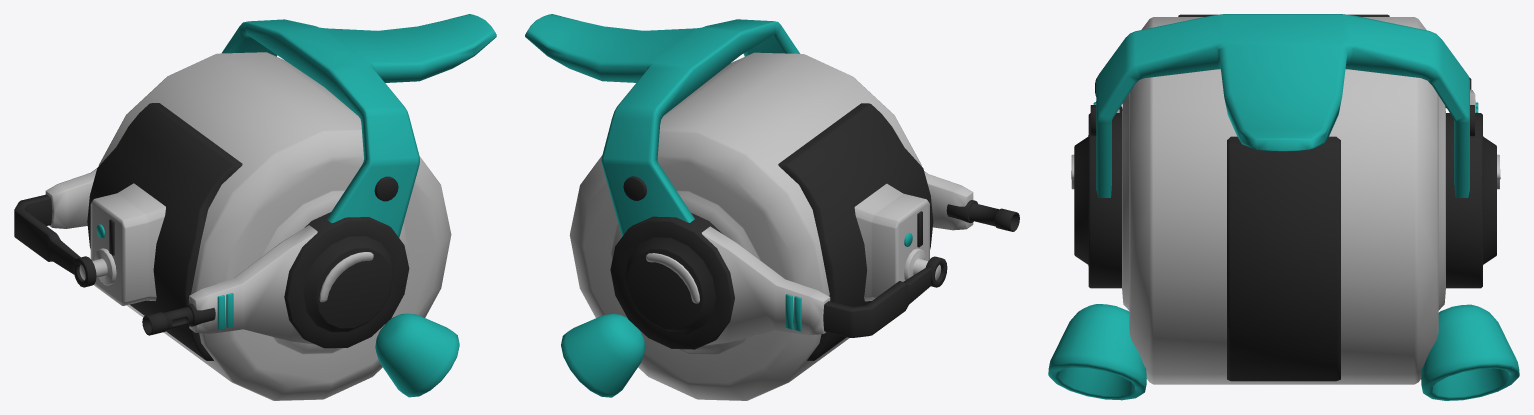
3 views of the same model, side by side, from view 1: azimuth 30°, elevation 25°; view 2: azimuth 150°, elevation 25°; view 3: azimuth 270°, elevation 25° (orthographic). The views are drawn at different scales.
Parts seen in each view (by area): view 1: Drone_earner.004; view 2: Drone_earner.004; view 3: Drone_earner.004.
Part boxes in pixels (left/top/right/bottom): Drone_earner.004: left=14, top=14, right=496, bottom=400; Drone_earner.004: left=525, top=14, right=1019, bottom=400; Drone_earner.004: left=1048, top=14, right=1519, bottom=400.
Size of the model in its own units: 4.18 by 2.92 by 3.32.
